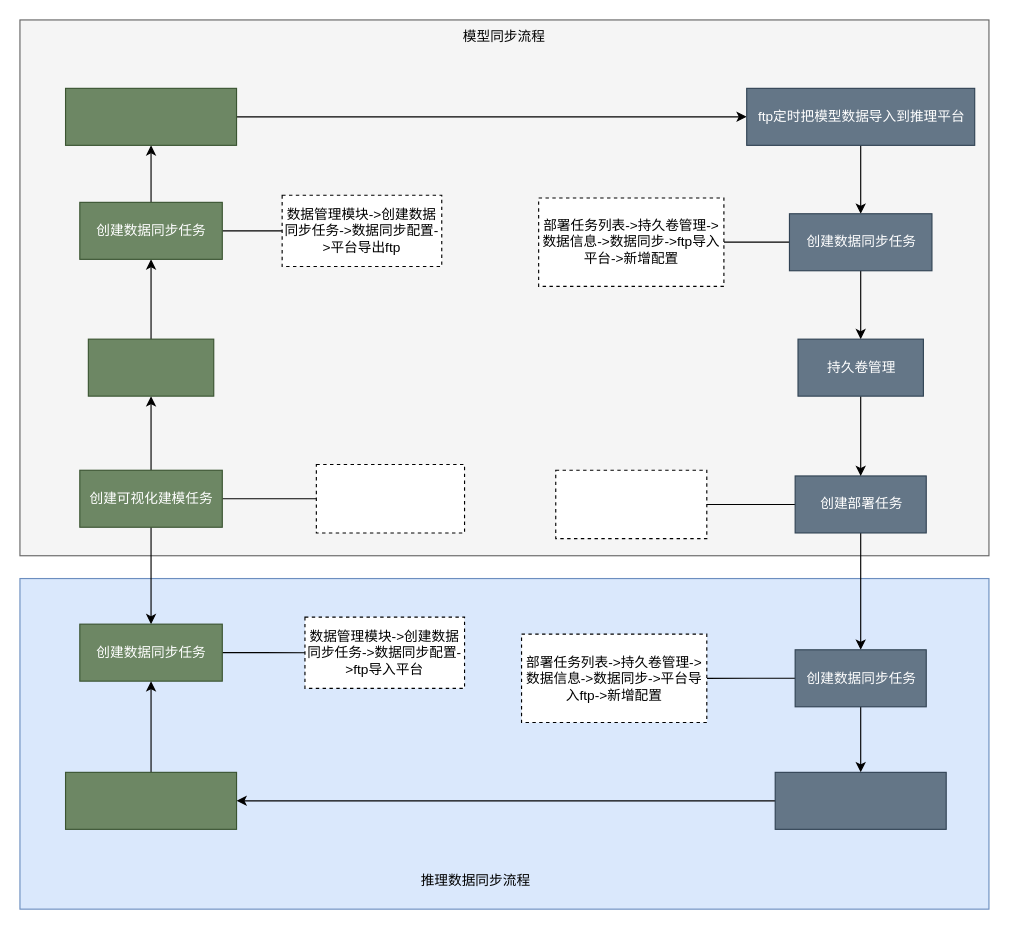
Some shapes in this 1009 by 929 pixel diagram are drawn without their labels. The shapes that lost their labels are listed below. From the top down, each one's centre as x and y in pixels, then its label:
the point at 150,116: 模型数据定时导出到ftp
the point at 150,367: 创建定时训练任务
the point at 390,498: 模型训练模块->创建可视化建模
the point at 631,504: 能力部署模块->创建部署任务->配置持久卷
the point at 150,800: ftp数据定时导入到学习平台
the point at 860,800: 推理数据定时导出到ftp
